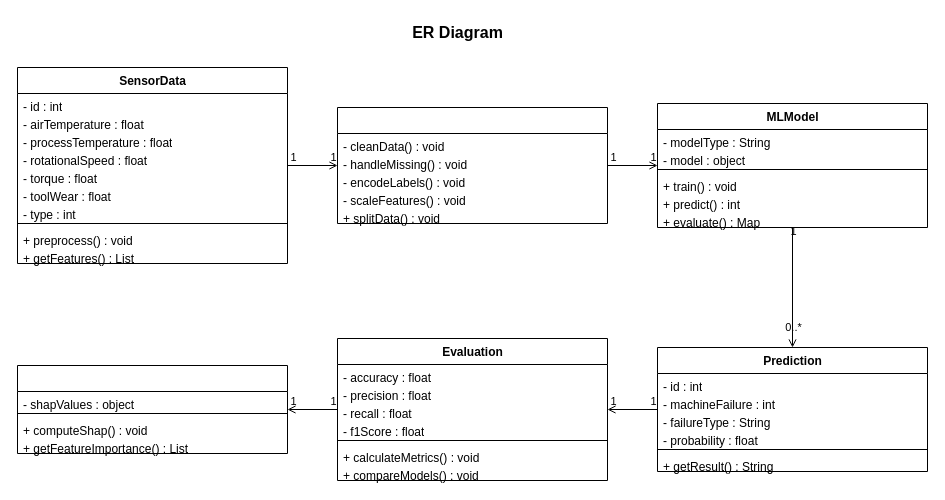
Image size: 945x500. Some labels were removed from this diagram. The shapes that lost their labels are listed below. From the top down, each one's box as (x1, y1, x2, y2) in pixels, then its label:
(336, 106, 608, 224): Preprocessor
(16, 364, 288, 454): ShapAnalyzer
